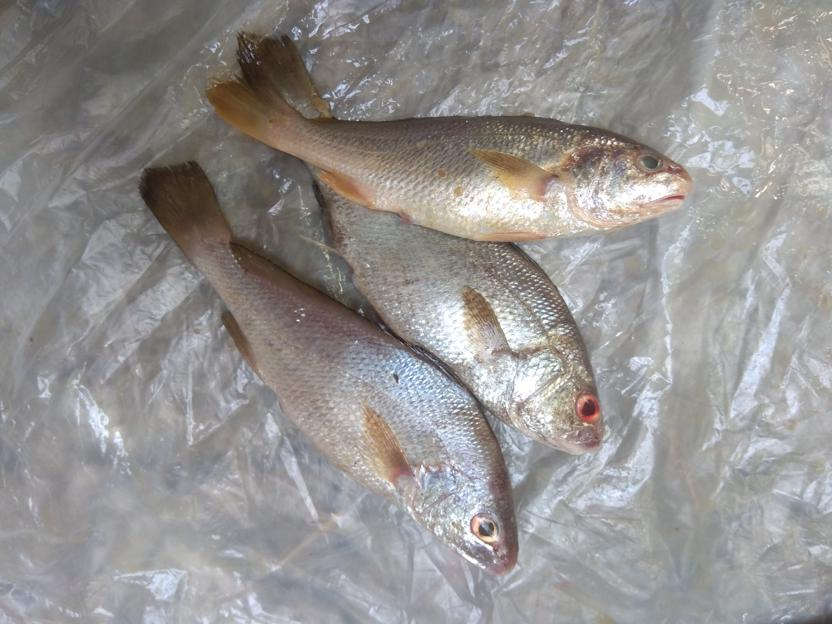Fish head: (411, 457, 520, 567), (569, 141, 691, 235), (508, 345, 605, 457)
Fish tail: (138, 162, 239, 266), (235, 28, 328, 112), (203, 74, 300, 148)
